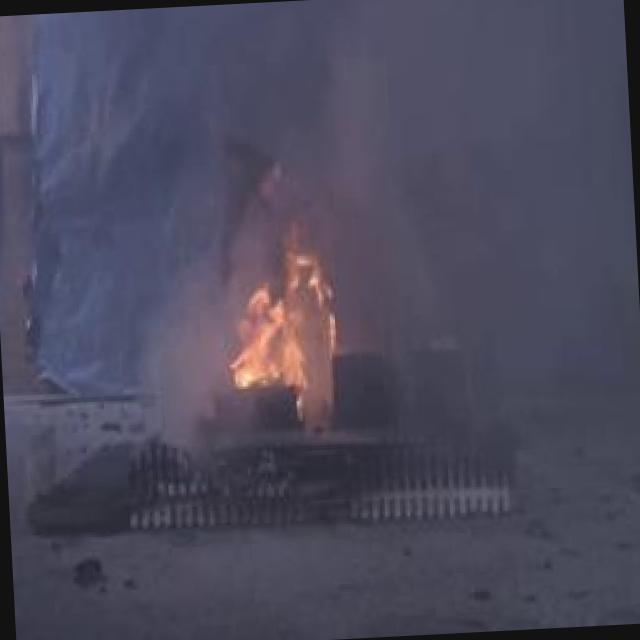fire: (224, 227, 348, 418)
